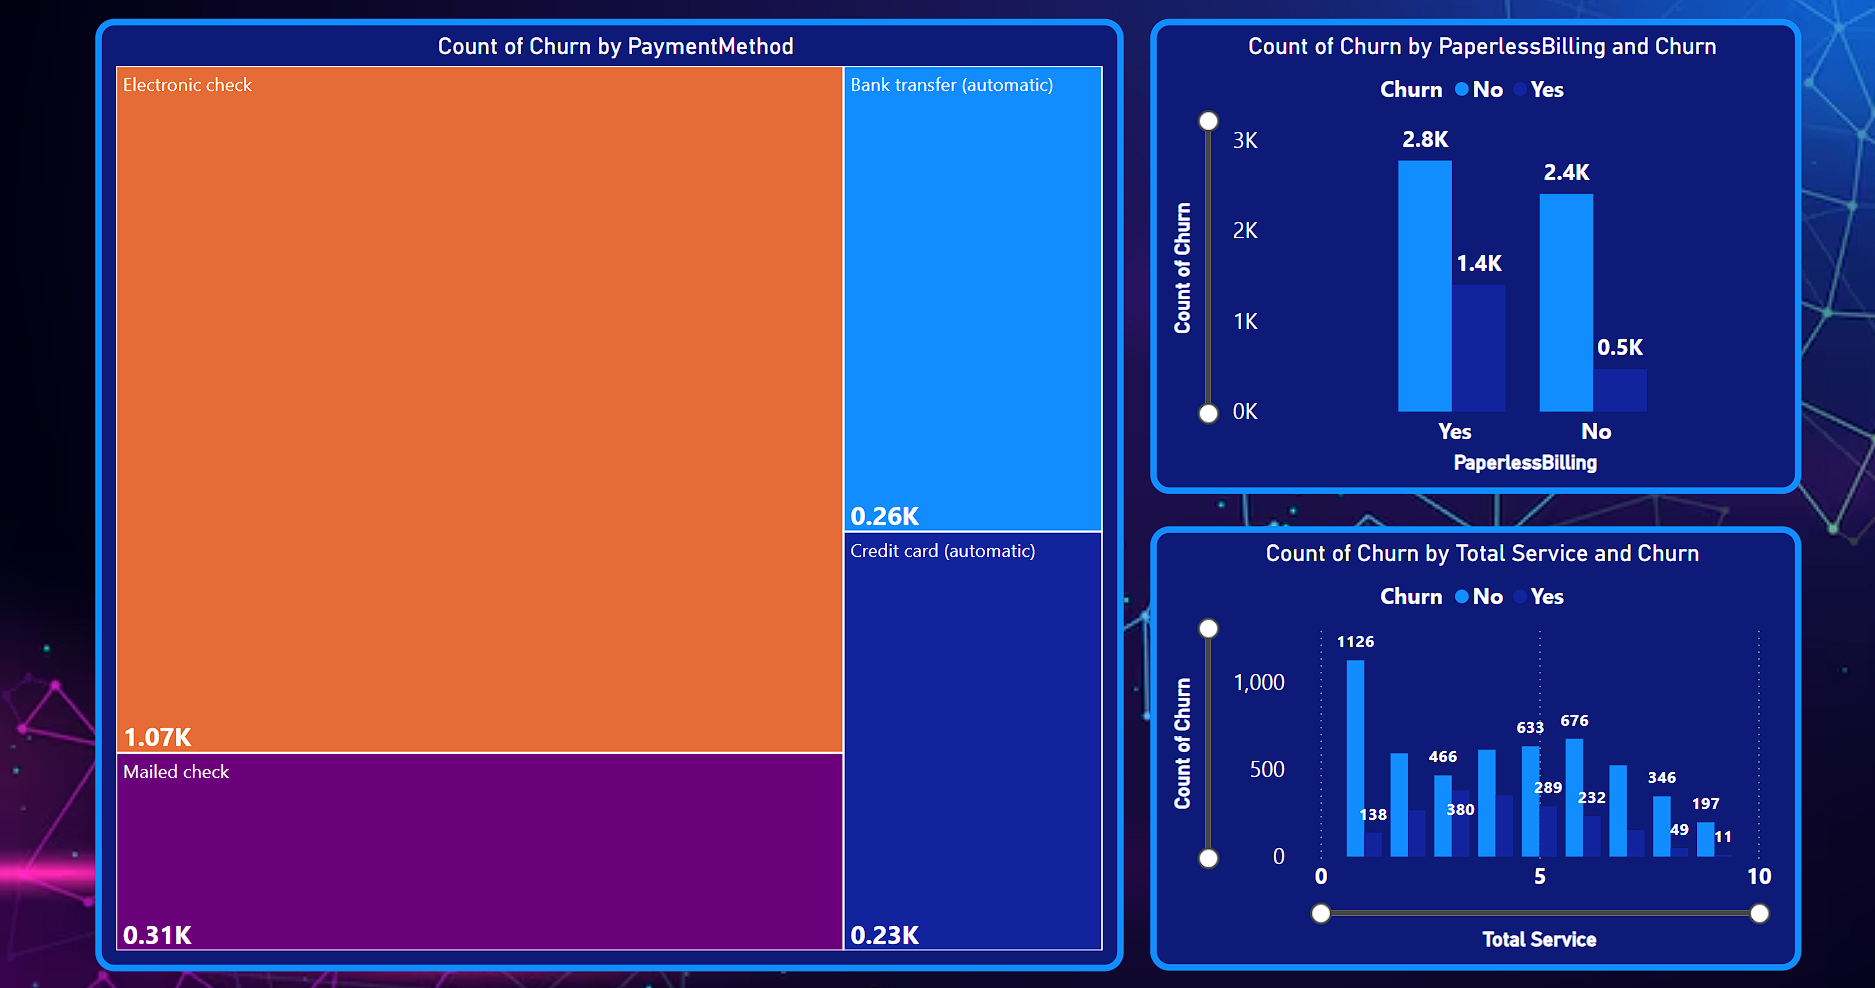

This screenshot's page, from the dashboard's own definition file:
{"tool":"powerbi","page":{"name":"Page 2","canvas":[1280,720],"ordinal":1},"visuals":[{"type":"clusteredColumnChart","fields":{"Category":["Cutomer_churn_analysis.PaperlessBilling"],"Y":["CountNonNull(Cutomer_churn_analysis.Churn)"],"Series":["Cutomer_churn_analysis.Churn"]},"box":[793.6,13.7,473.9,345.8],"z":0},{"type":"treemap","fields":{"Details":["Cutomer_churn_analysis.PaymentMethod"],"Values":["CountNonNull(Cutomer_churn_analysis.Churn)"]},"box":[26.1,13.7,747.6,692.9],"z":1000},{"type":"clusteredColumnChart","fields":{"Category":["Cutomer_churn_analysis.Total Service"],"Y":["CountNonNull(Cutomer_churn_analysis.Churn)"],"Series":["Cutomer_churn_analysis.Churn"]},"box":[793.6,383.1,473.9,323.4],"z":2000}]}

Visuals, with their boxes in screenshot pixels (x1, y1, x2, y2):
clusteredColumnChart - Cutomer_churn_analysis.PaperlessBilling x CountNonNull(Cutomer_churn_analysis.Churn): <box>1145,19,1786,486</box>
treemap - Cutomer_churn_analysis.PaymentMethod x CountNonNull(Cutomer_churn_analysis.Churn): <box>109,19,1118,955</box>
clusteredColumnChart - Cutomer_churn_analysis.Total Service x CountNonNull(Cutomer_churn_analysis.Churn): <box>1145,518,1786,954</box>
